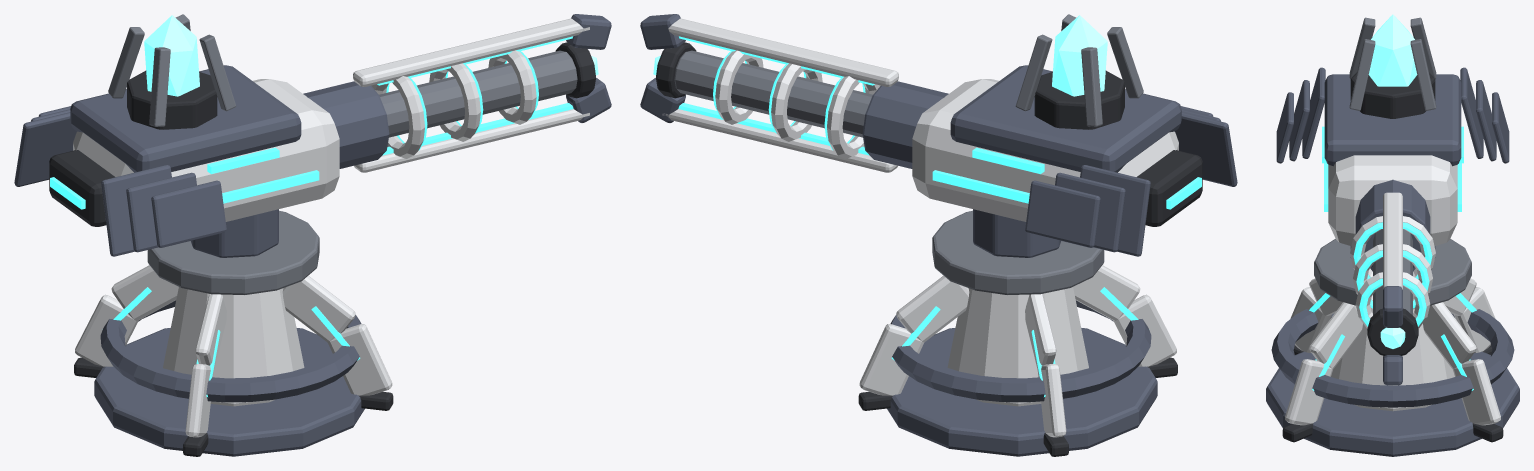
File: torreta_laser.glb
The picture shows the model from 3 angles, left to right: view 1: azimuth 30°, elevation 25°; view 2: azimuth 150°, elevation 25°; view 3: azimuth 270°, elevation 25°; orthographic projection. The views are drawn at different scales.
Parts seen in each view (by area): view 1: Pivot, Base, Barrel; view 2: Pivot, Base, Barrel; view 3: Pivot, Base, Barrel.
Part boxes in pixels (left/top/right/bottom): Pivot: left=14, top=14, right=339, bottom=294; Base: left=74, top=265, right=393, bottom=456; Barrel: left=303, top=14, right=611, bottom=172; Pivot: left=912, top=14, right=1237, bottom=294; Base: left=858, top=265, right=1177, bottom=456; Barrel: left=640, top=14, right=948, bottom=172; Pivot: left=1276, top=14, right=1509, bottom=305; Base: left=1266, top=278, right=1519, bottom=456; Barrel: left=1350, top=179, right=1435, bottom=385.
Size of the model in its own units: 5.19 by 3.64 by 2.3.
